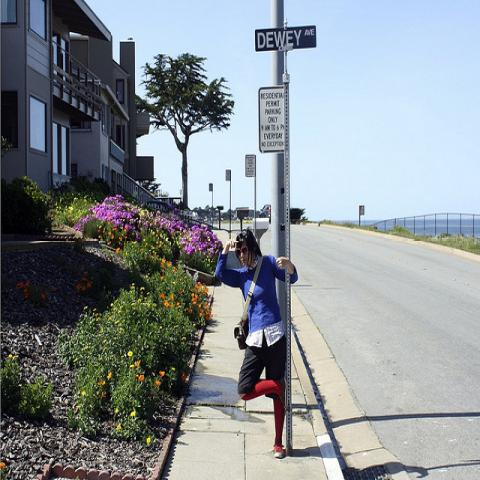car: (259, 204, 271, 218)
